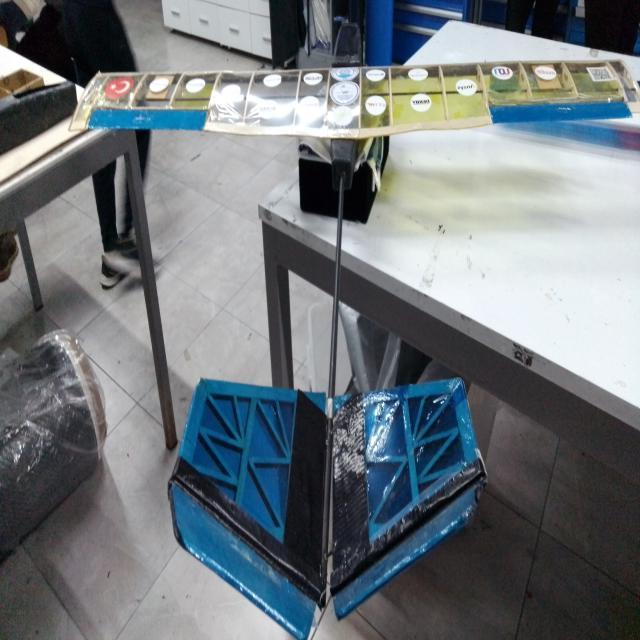iha: (73, 28, 640, 623)
